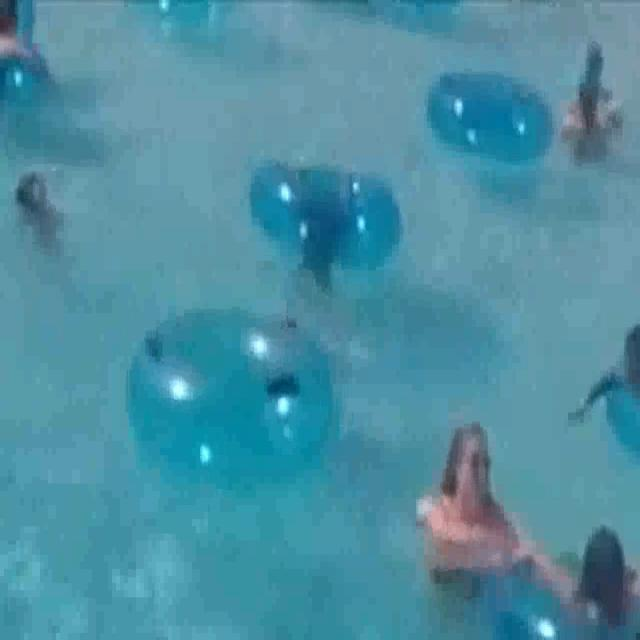Out of Water: (233, 238, 365, 357)
swimming: (408, 419, 528, 598)
